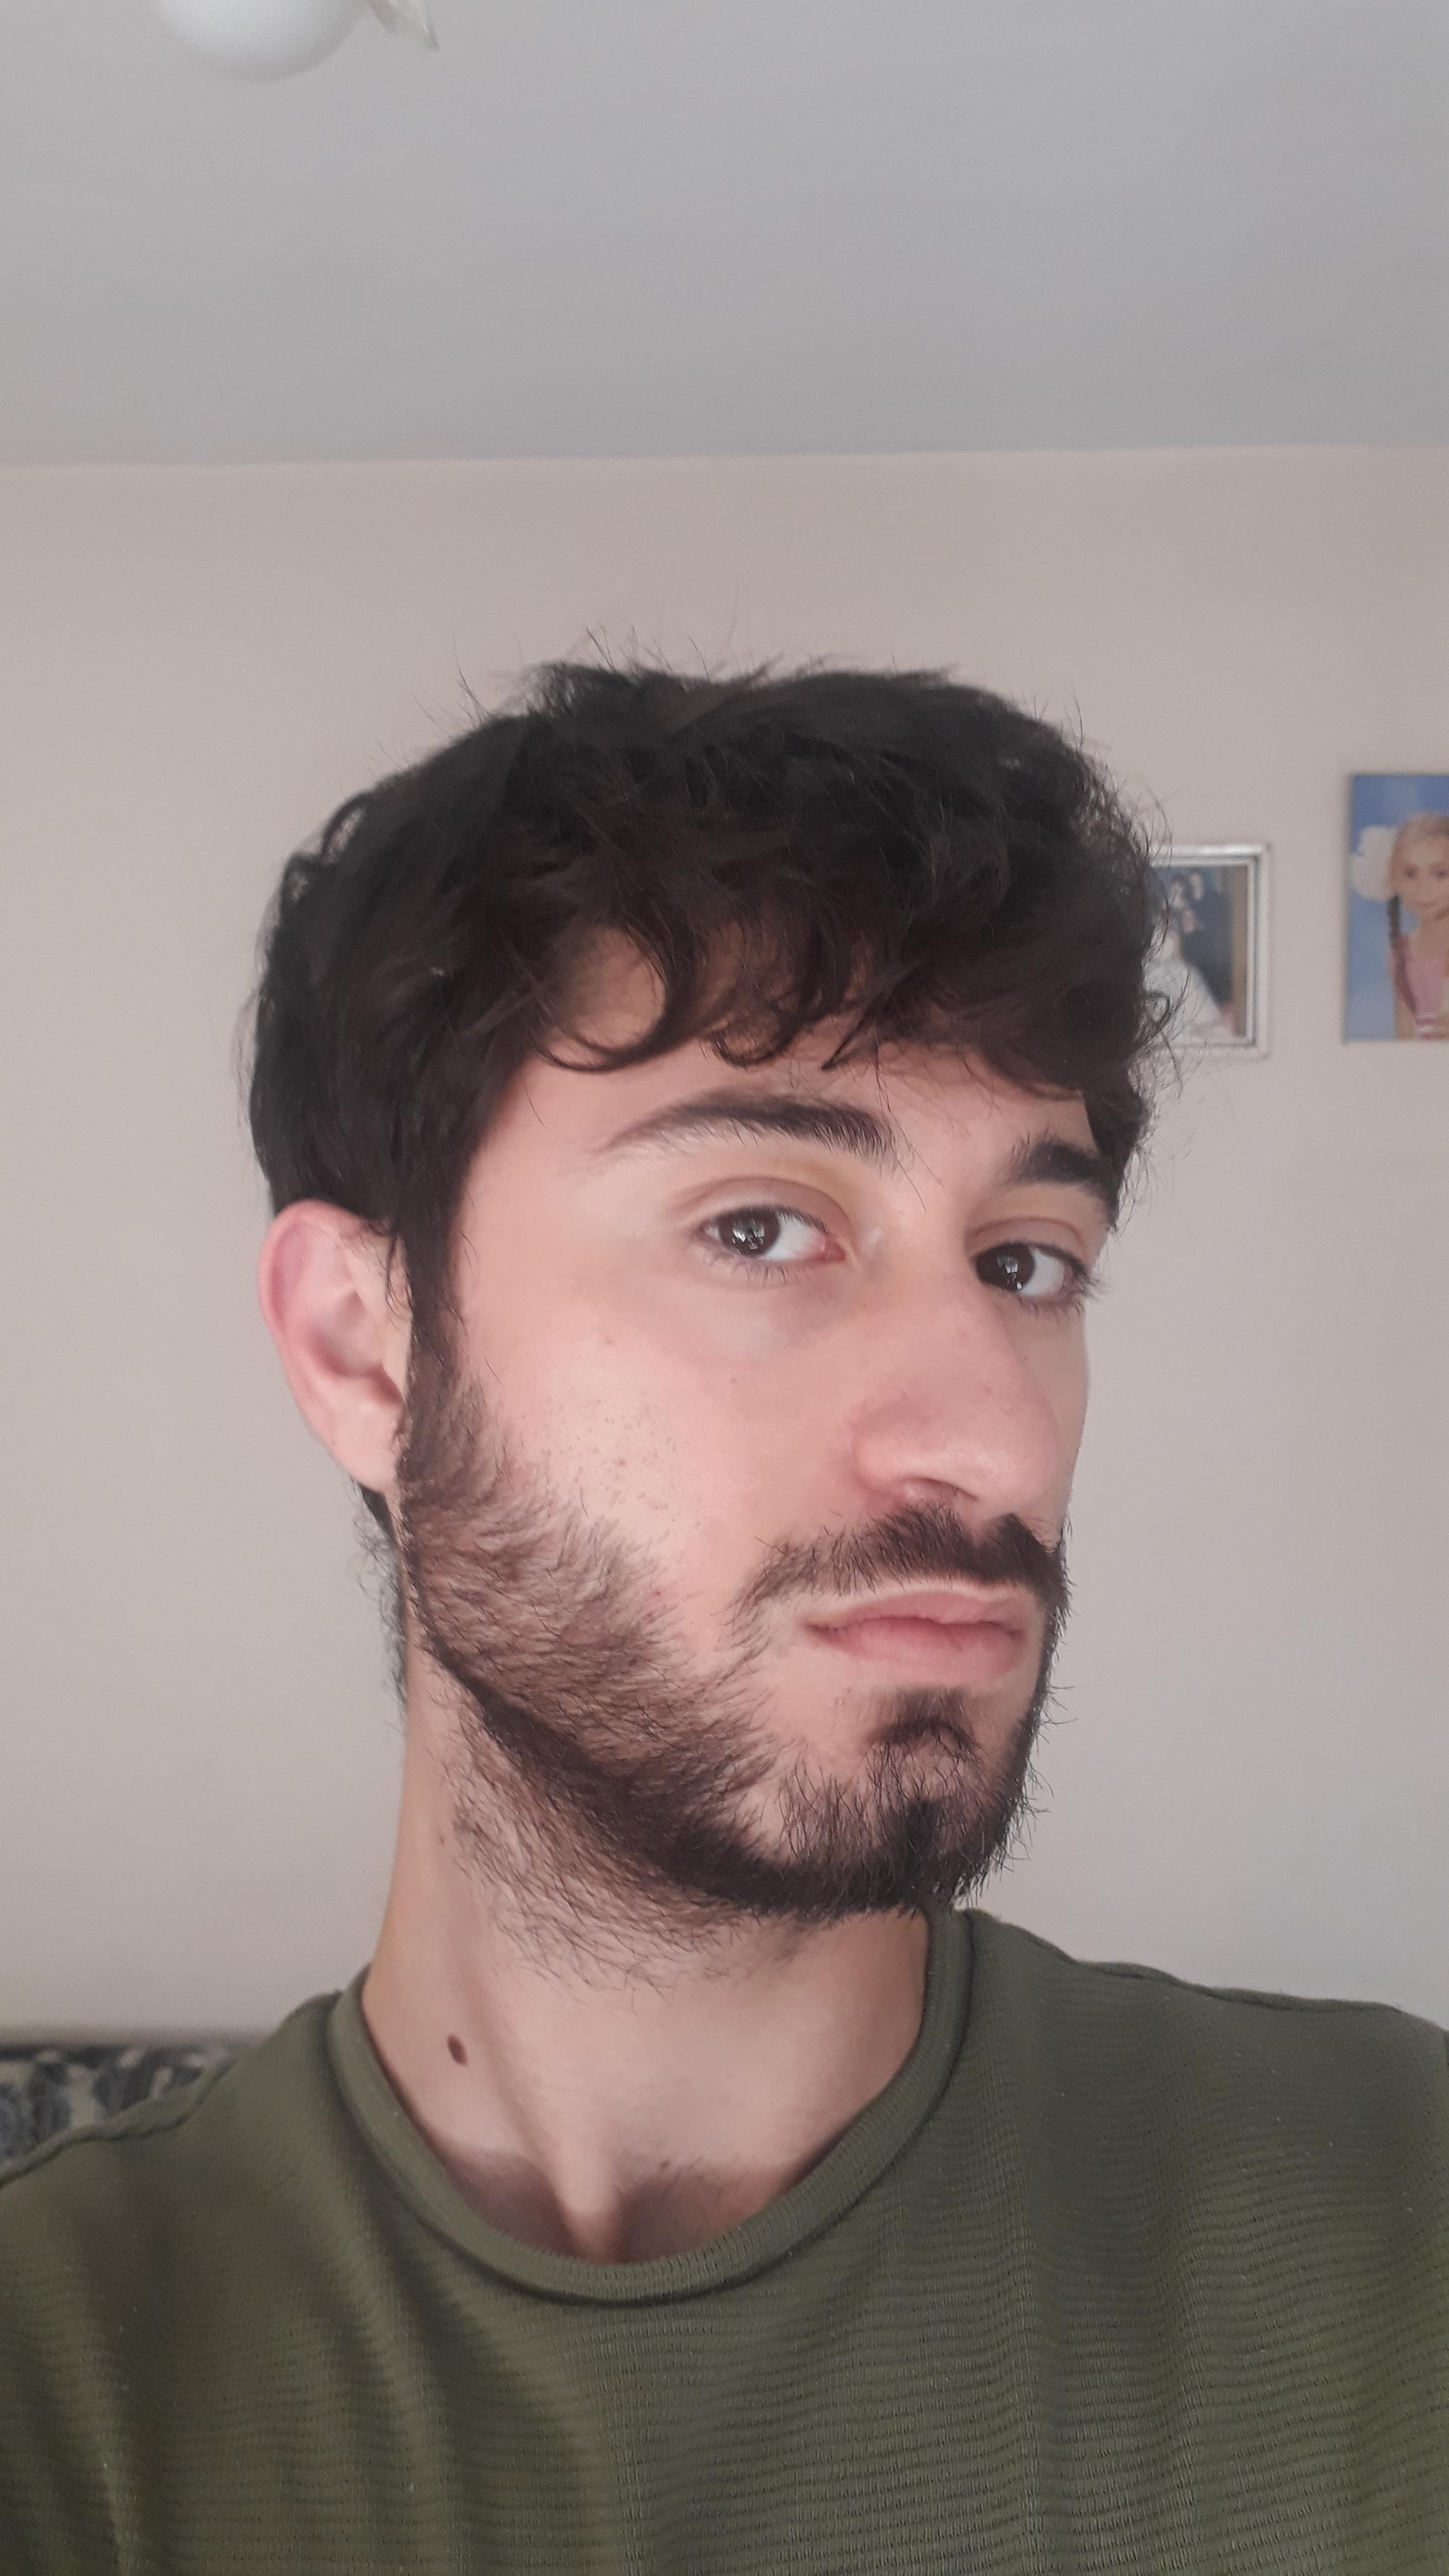Acne: (594, 1327, 625, 1359), (642, 1585, 663, 1629), (832, 1681, 856, 1716), (978, 1378, 998, 1408), (609, 1451, 632, 1470)
